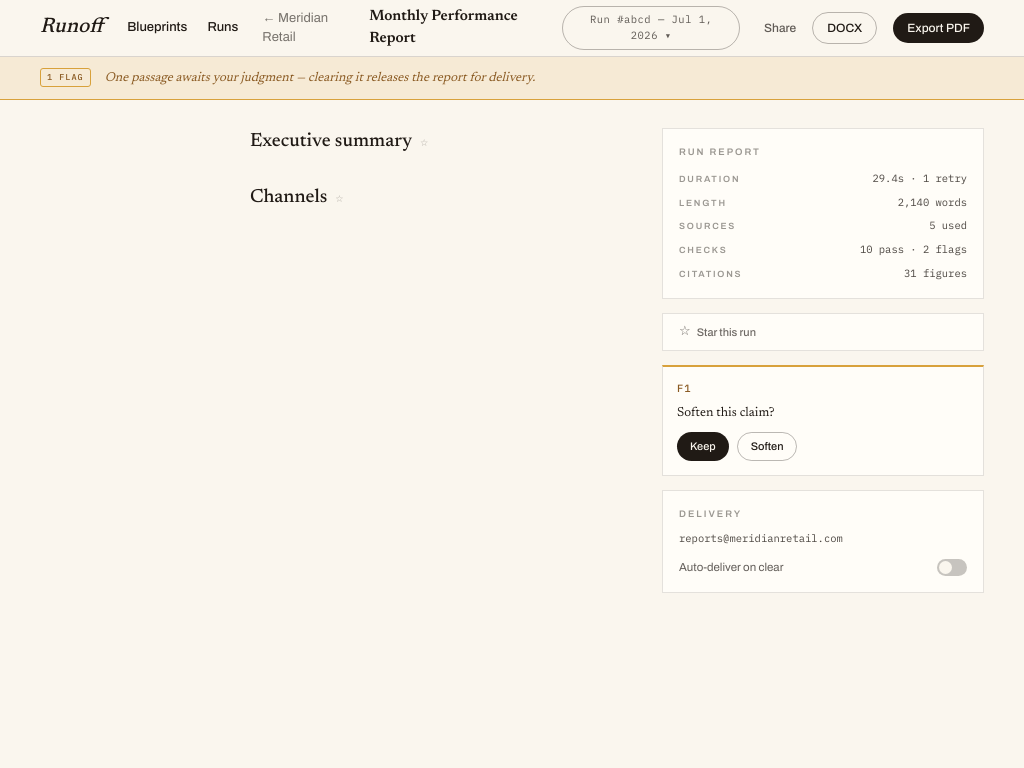
Test: Reader — flag cards › collapses a resolved flag to a wash result line
Click the button "Soften" at x=767, y=447, box [737,432,798,461]
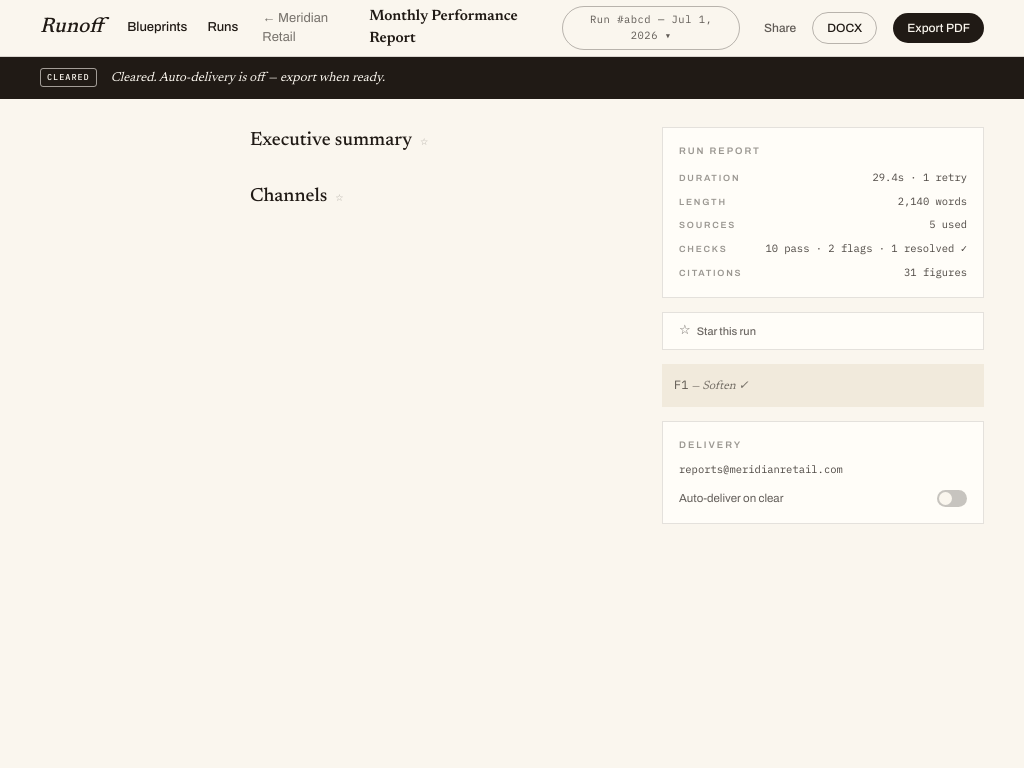
Now the element with test id "flag-card-flag_1" reads "F1 — Soften ✓", box [662,364,984,407]
